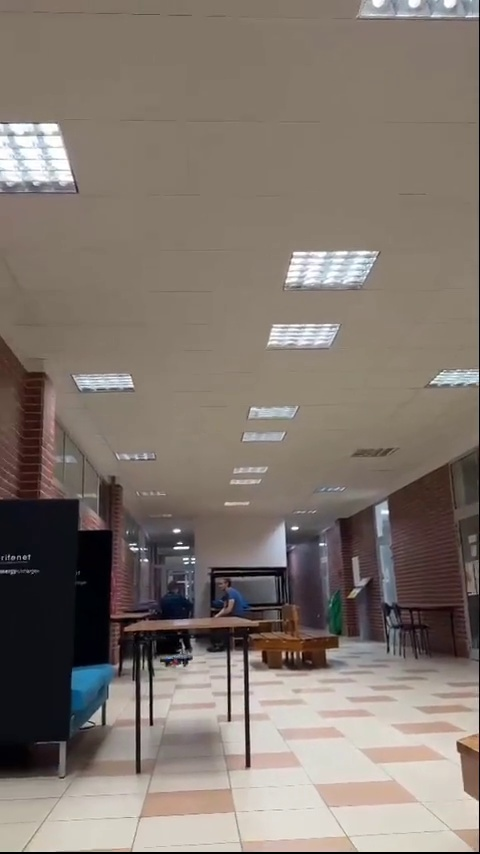drone: (161, 656, 195, 669)
no vest: (213, 575, 245, 616), (162, 581, 193, 619)
